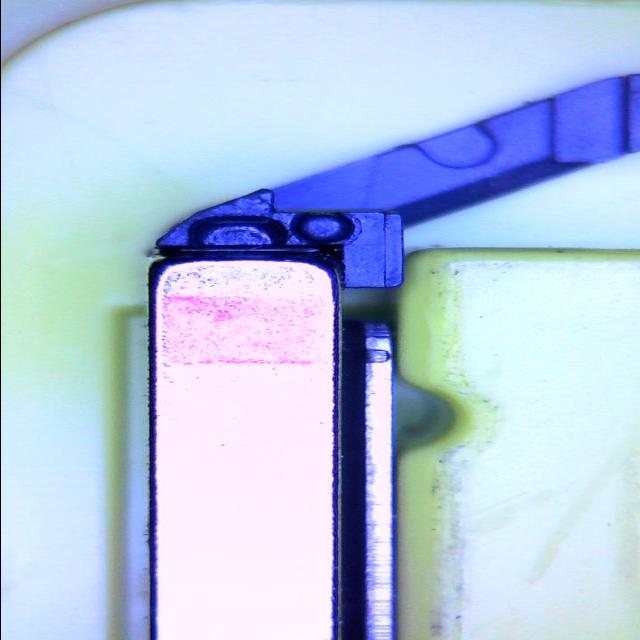over: (186, 216, 290, 252)
